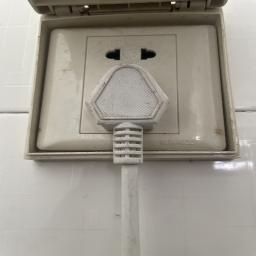outlet: (27, 16, 238, 168)
